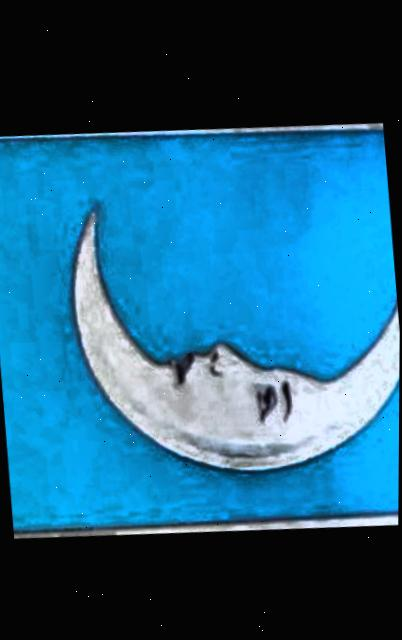La Luna: (0, 126, 400, 528)
